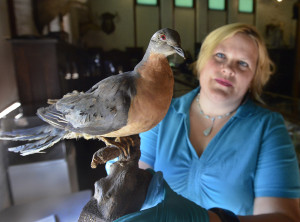Flying Rat: (12, 26, 187, 143)
